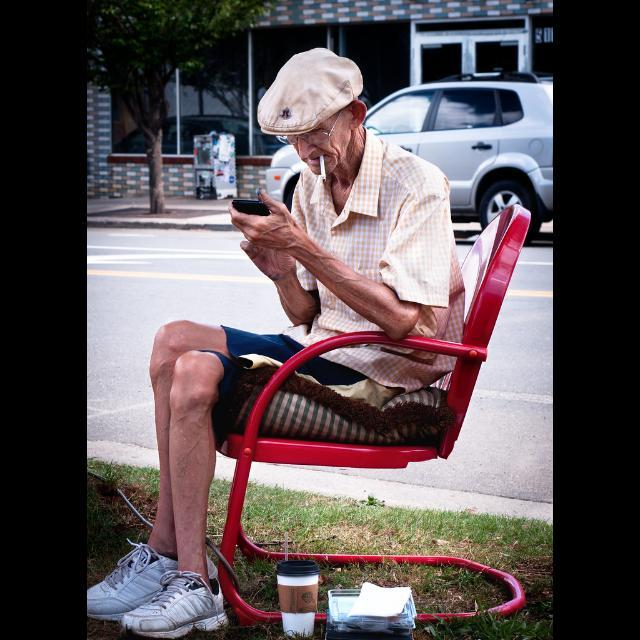rokok: (316, 155, 328, 181)
